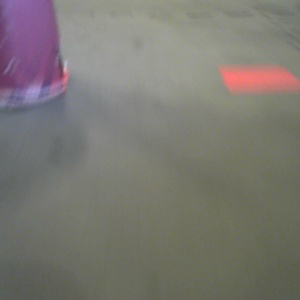right: (1, 1, 76, 113)
